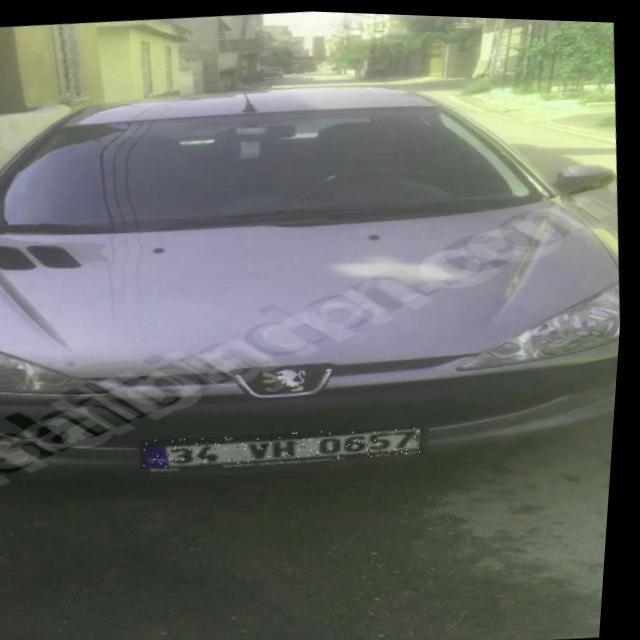license_plate: (144, 414, 431, 475)
